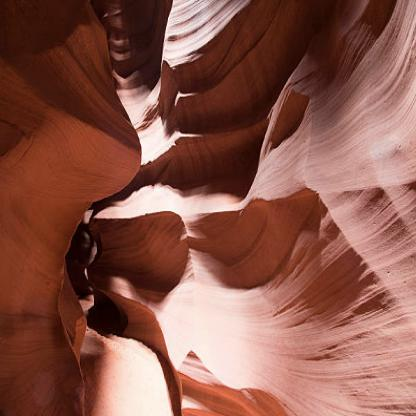Sedimentary_Sandstone: (215, 2, 415, 252), (158, 1, 317, 140), (90, 182, 188, 284)
